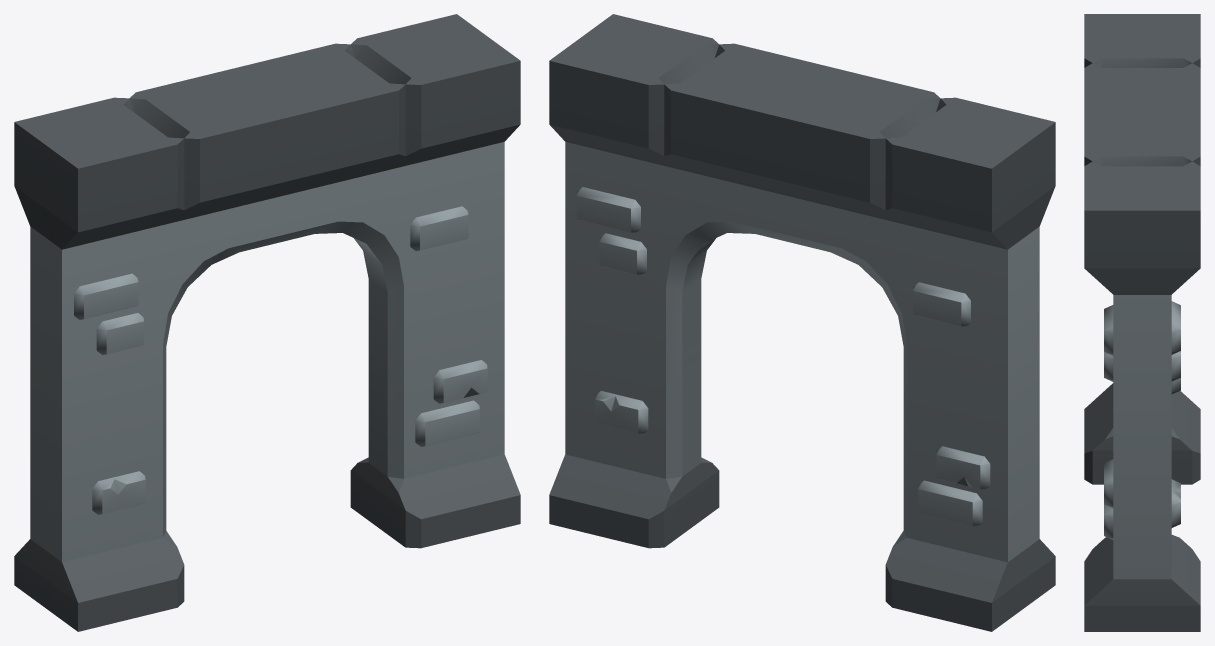
File: wall_doorway.glb
3 views of the same model, side by side, from view 1: azimuth 30°, elevation 25°; view 2: azimuth 150°, elevation 25°; view 3: azimuth 270°, elevation 25° (orthographic). The views are drawn at different scales.
Parts seen in each view (by area): view 1: wall_doorway; view 2: wall_doorway; view 3: wall_doorway.
Boxes of the visible parts, x1,y1,x2,y2 form: wall_doorway: (14,14,520,631); wall_doorway: (549,14,1055,631); wall_doorway: (1084,14,1200,631).
Bounding box in the file's own units: 2 × 2 × 0.5.
1 material, 1 textured.
